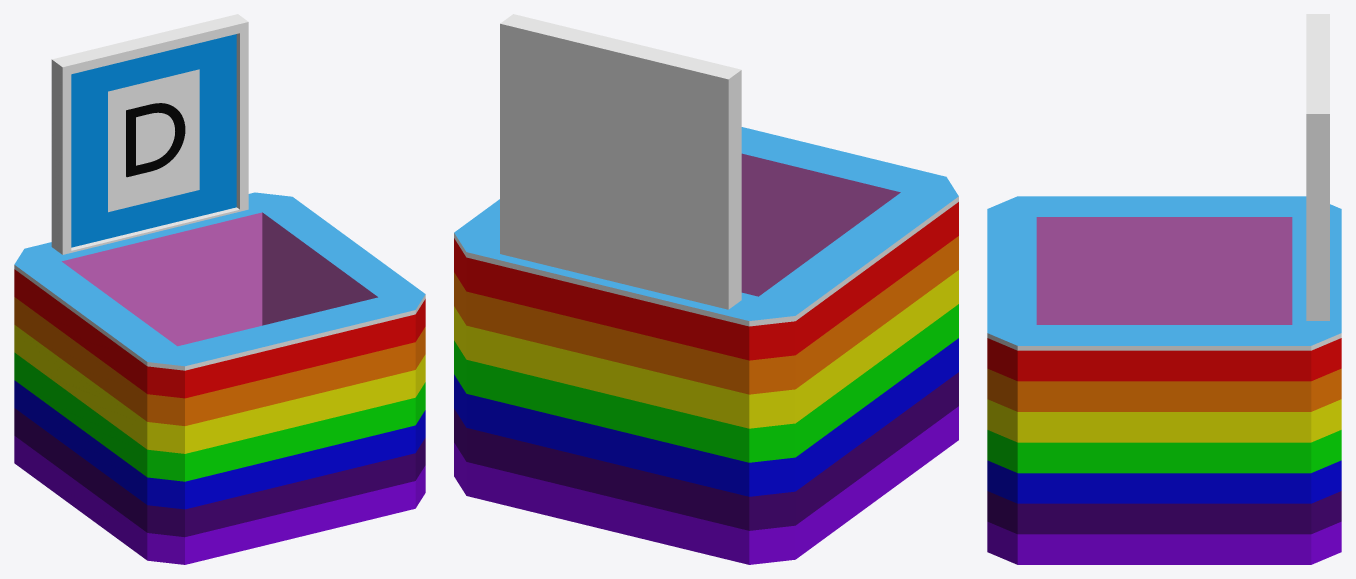
3 views of the same model, side by side, from view 1: azimuth 30°, elevation 25°; view 2: azimuth 150°, elevation 25°; view 3: azimuth 270°, elevation 25° (orthographic). The views are drawn at different scales.
Visible parts, largest first — view 1: Cube.001, Text; view 2: Cube.001; view 3: Cube.001.
Part boxes in pixels (x1,y1,x2,y2): Cube.001: (14,14,425,564); Text: (126,103,185,177); Cube.001: (454,14,958,564); Cube.001: (987,14,1341,564).
Size of the model in its own units: 383 by 508 by 383.
